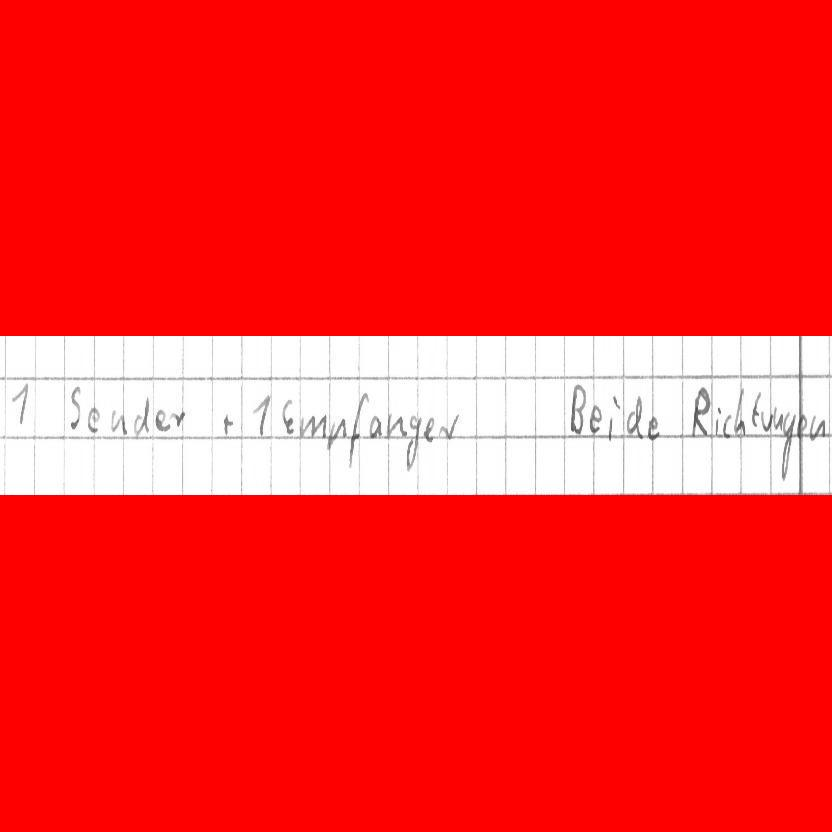Char: (347, 392, 365, 473), (689, 385, 710, 438), (7, 381, 28, 428), (250, 390, 271, 437), (404, 413, 421, 471), (569, 384, 587, 436), (781, 411, 794, 481), (625, 392, 644, 438), (732, 386, 747, 435), (131, 394, 149, 434), (68, 386, 84, 429), (280, 398, 297, 436), (302, 410, 325, 437), (608, 391, 621, 437), (438, 413, 459, 440), (327, 416, 346, 444), (751, 391, 764, 429), (386, 412, 404, 438), (109, 408, 126, 435), (588, 406, 603, 435), (810, 417, 829, 439), (86, 406, 102, 432), (366, 416, 383, 440), (717, 407, 730, 438), (645, 414, 660, 440), (766, 408, 782, 432), (221, 409, 234, 437), (423, 416, 437, 442), (153, 409, 170, 430), (171, 409, 186, 431), (795, 412, 807, 438)
